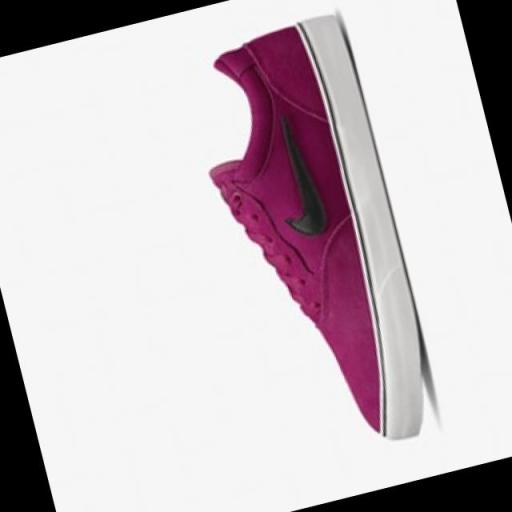Nike: (261, 103, 338, 245)
